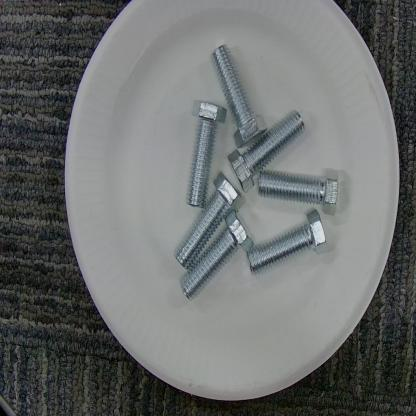FOD: (174, 34, 342, 312)
